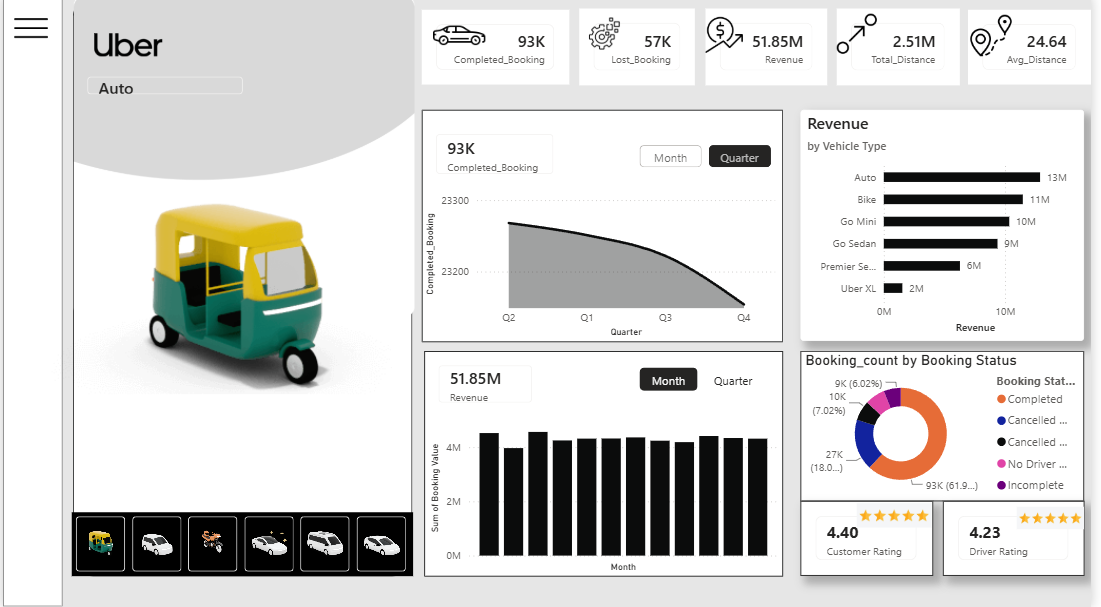

This screenshot's page, from the dashboard's own definition file:
{"tool":"powerbi","page":{"name":"Overview","canvas":[1280,720],"ordinal":1},"visuals":[{"type":"shape","box":[492.6,133.8,425,273.5],"z":0},{"type":"shape","box":[495.8,417.4,422.3,265.4],"z":1000},{"type":"shape","box":[0,0,70.1,719.4],"z":2000},{"type":"image","box":[8.8,0,50,77.9],"z":3000},{"type":"shape","box":[82,0,399.3,682.8],"z":4000},{"type":"image","box":[35,0,497.1,376.4],"z":5000},{"type":"image","box":[107.4,38.6,79.6,38.6],"z":6000},{"type":"cardVisual","fields":{"Data":["Table 2.Completed_Booking"]},"box":[492.2,16.9,173.7,88.1],"z":7000},{"type":"cardVisual","fields":{"Data":["Table 2.Lost_Booking"]},"box":[678,14.5,136.3,90.5],"z":8000},{"type":"cardVisual","fields":{"Data":["Table 2.Revenue"]},"box":[826.4,14.5,143.6,90.5],"z":9000},{"type":"cardVisual","fields":{"Data":["Table 2.Total_Distance"]},"box":[980.8,14.5,144.8,90.5],"z":10000},{"type":"cardVisual","fields":{"Data":["Table 2.Average_Distance"]},"box":[1135.3,16.9,144.8,88.1],"z":11000},{"type":"advancedSlicerVisual","fields":{"Values":["Table.Img"]},"box":[80.6,607.5,400,92.5],"z":12000},{"type":"cardVisual","fields":{"Data":["Min(Table.Vehicle Type)"]},"box":[82,77.2,217.2,55.5],"z":13000},{"type":"cardVisual","fields":{"Data":["Min(Table.Img)"]},"box":[35.3,0,480.9,486.8],"z":14000},{"type":"areaChart","fields":{"Category":["Calender.Month"],"Y":["Table 2.Completed_Booking"]},"box":[492.2,226.8,421,179.8],"z":15000},{"type":"columnChart","fields":{"Category":["Calender.Quarter"],"Y":["Sum(Uber.Booking Value)"]},"box":[498.5,485.3,417.6,197.1],"z":16000},{"type":"advancedSlicerVisual","fields":{"Values":["Date axis.Date axis"]},"box":[744.4,170.1,164.1,36.2],"z":17000},{"type":"advancedSlicerVisual","fields":{"Values":["Date axis 1.Date axis 1"]},"box":[744.3,432.9,154.3,37.1],"z":18000},{"type":"cardVisual","fields":{"Data":["Table 2.Completed_Booking"]},"box":[492.9,145.7,172.9,81.4],"z":19000},{"type":"cardVisual","fields":{"Data":["Table 2.Revenue"]},"box":[495.7,417.1,144.3,78.6],"z":20000},{"type":"clusteredBarChart","title":"Revenue ","fields":{"Y":["Table 2.Revenue"],"Category":["Uber.ve_type"]},"box":[938.2,133.8,333.8,272.1],"z":21000},{"type":"image","box":[505.9,14.7,61.8,63.2],"z":22000},{"type":"image","box":[688.2,11.8,38.2,64.7],"z":23000},{"type":"image","box":[826.5,22.1,44.1,45.6],"z":24000},{"type":"image","box":[980.9,8.8,47.1,70.6],"z":25000},{"type":"image","box":[1132.4,22.1,60.3,48.5],"z":26000},{"type":"donutChart","fields":{"Category":["Uber.Booking Status"],"Y":["Table 2.Booking_count"]},"box":[938.2,417.6,333.8,176.5],"z":27000},{"type":"cardVisual","fields":{"Data":["Avg(Uber.Customer Rating)"]},"box":[938.2,594.1,155.9,88.2],"z":28000},{"type":"cardVisual","fields":{"Data":["Avg(Uber.Driver Ratings)"]},"box":[1105.9,594.1,166.2,88.2],"z":29001},{"type":"image","box":[1004.4,583.8,88.2,54.4],"z":29002},{"type":"image","box":[1192.6,589.7,79.4,48.5],"z":29003}]}

Visuals, with their boxes in screenshot pixels (x1, y1, x2, y2), scaled from the page's 1280x720 canvas onto the 1101x607 screenshot:
shape: region(424, 113, 789, 343)
shape: region(426, 352, 790, 576)
shape: region(0, 0, 60, 606)
image: region(8, 0, 51, 66)
shape: region(71, 0, 414, 576)
image: region(30, 0, 458, 317)
image: region(92, 33, 161, 65)
cardVisual - Table 2.Completed_Booking: region(423, 14, 573, 89)
cardVisual - Table 2.Lost_Booking: region(583, 12, 700, 89)
cardVisual - Table 2.Revenue: region(711, 12, 834, 89)
cardVisual - Table 2.Total_Distance: region(844, 12, 968, 89)
cardVisual - Table 2.Average_Distance: region(977, 14, 1100, 89)
advancedSlicerVisual - Table.Img: region(69, 512, 413, 590)
cardVisual - Min(Table.Vehicle Type): region(71, 65, 257, 112)
cardVisual - Min(Table.Img): region(30, 0, 444, 410)
areaChart - Calender.Month x Table 2.Completed_Booking: region(423, 191, 785, 343)
columnChart - Calender.Quarter x Sum(Uber.Booking Value): region(429, 409, 788, 575)
advancedSlicerVisual - Date axis.Date axis: region(640, 143, 781, 174)
advancedSlicerVisual - Date axis 1.Date axis 1: region(640, 365, 773, 396)
cardVisual - Table 2.Completed_Booking: region(424, 123, 573, 191)
cardVisual - Table 2.Revenue: region(426, 352, 550, 418)
"Revenue " clusteredBarChart: region(807, 113, 1094, 342)
image: region(435, 12, 488, 66)
image: region(592, 10, 625, 64)
image: region(711, 19, 749, 57)
image: region(844, 7, 884, 67)
image: region(974, 19, 1026, 60)
donutChart - Uber.Booking Status x Table 2.Booking_count: region(807, 352, 1094, 501)
cardVisual - Avg(Uber.Customer Rating): region(807, 501, 941, 575)
cardVisual - Avg(Uber.Driver Ratings): region(951, 501, 1094, 575)
image: region(864, 492, 940, 538)
image: region(1026, 497, 1094, 538)
